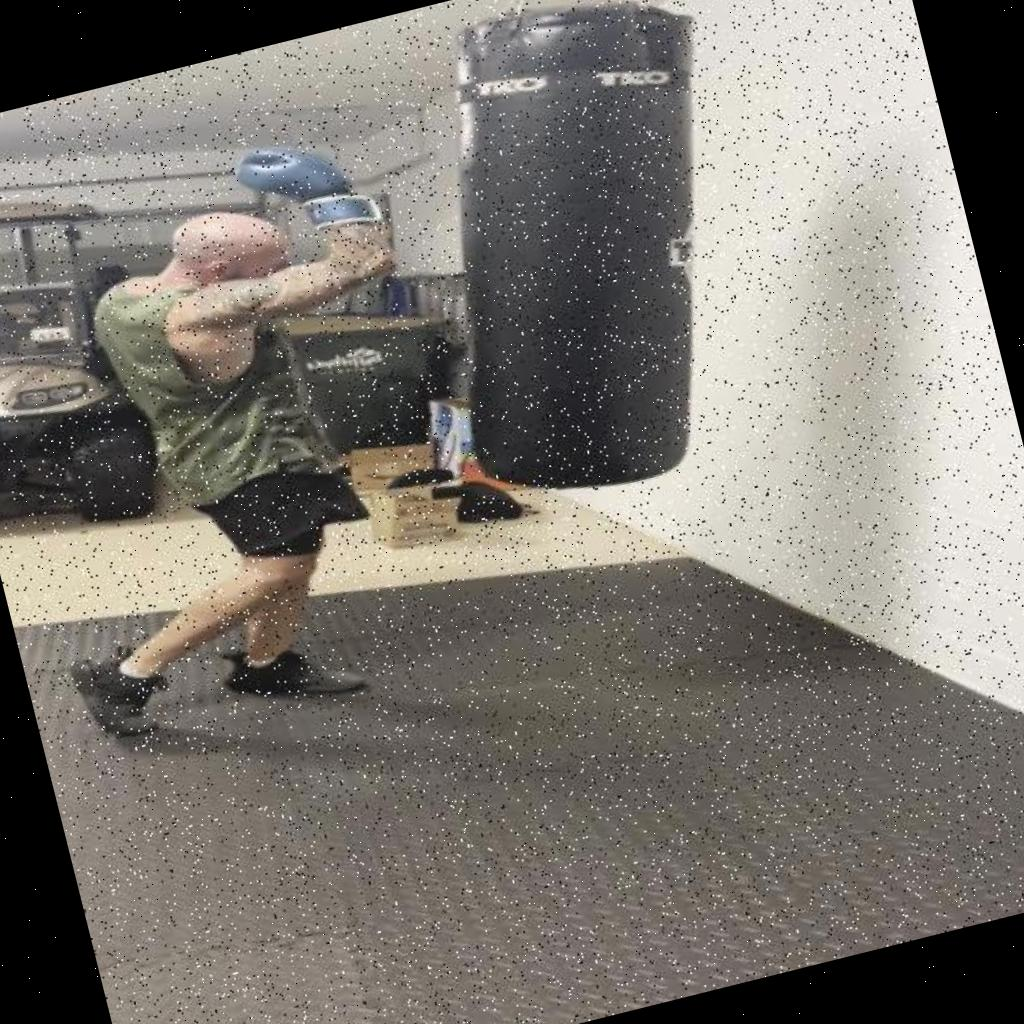bag: (359, 0, 792, 541)
uppercut: (56, 72, 470, 432)
